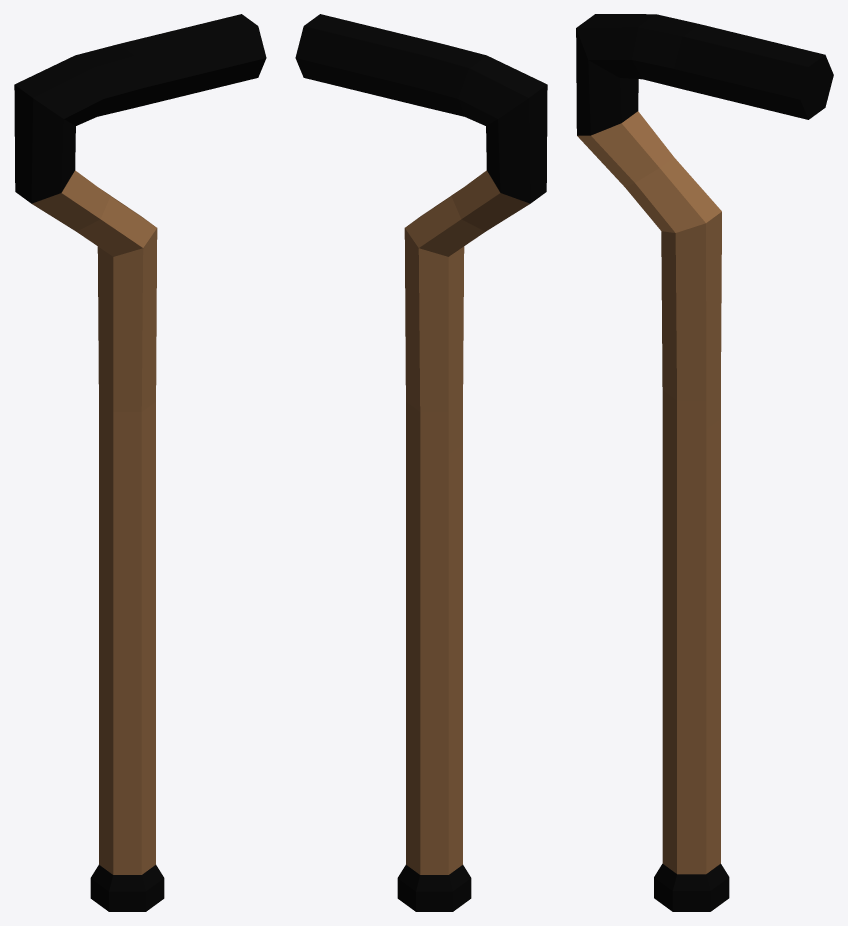
File: old_walking_stick2.fbx
3 views of the same model, side by side, from view 1: azimuth 30°, elevation 25°; view 2: azimuth 150°, elevation 25°; view 3: azimuth 330°, elevation 25° (orthographic). The views are drawn at different scales.
Visible parts, largest first — view 1: walking_stick2; view 2: walking_stick2; view 3: walking_stick2.
Boxes of the visible parts, x1=… form: walking_stick2: x1=14, y1=14, x2=266, y2=911; walking_stick2: x1=295, y1=14, x2=547, y2=911; walking_stick2: x1=576, y1=14, x2=833, y2=911.
Size of the model in its own units: 74.33 by 266 by 21.32.
Materials: 1 (1 with a texture image).
